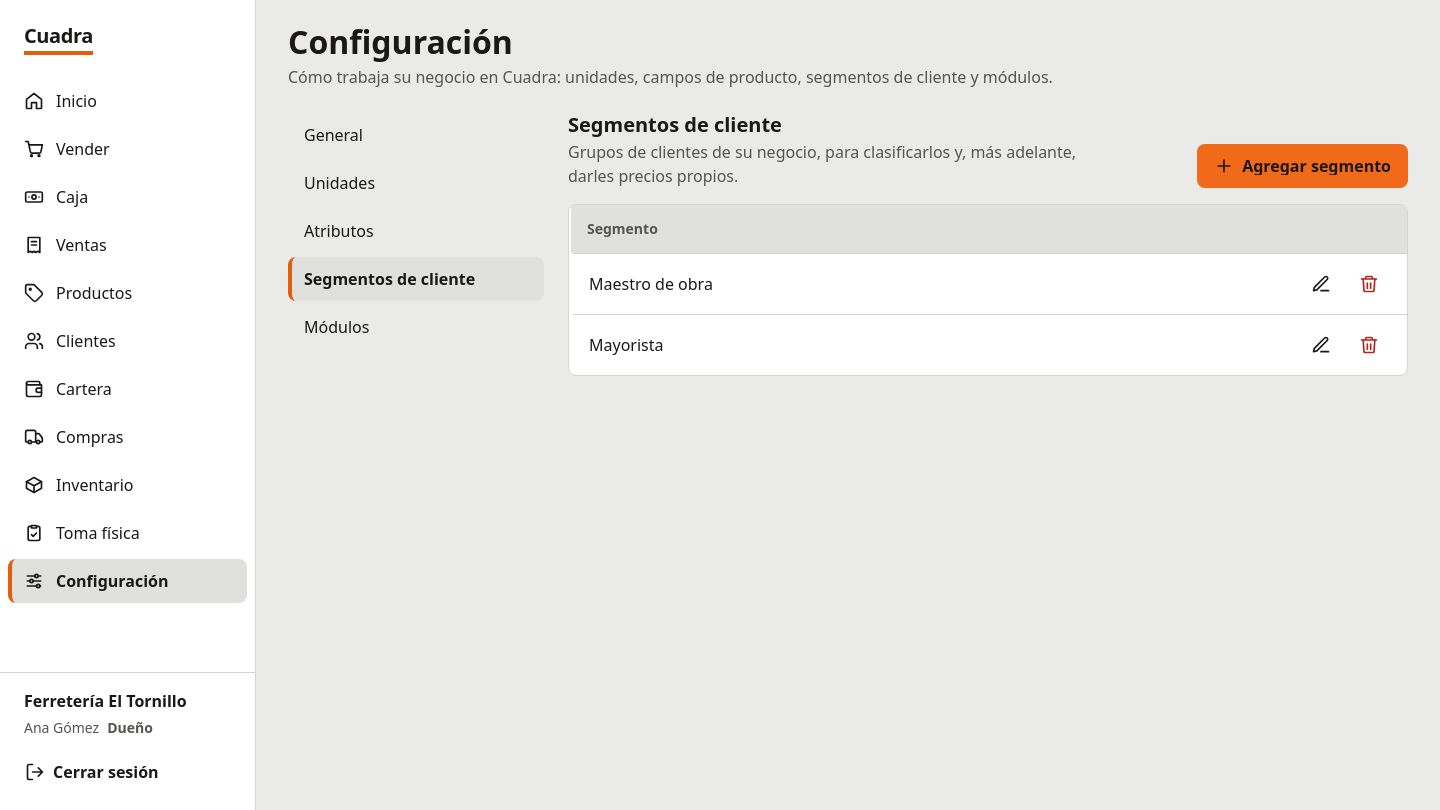
Scenario: CustomerSegmentsSettings › renombra un segmento y muestra el nombre repetido en su campo
The image size is (1440, 810).
Click the button named "Editar Mayorista". click: point(1321, 345)
box: [1299,323,1343,367]
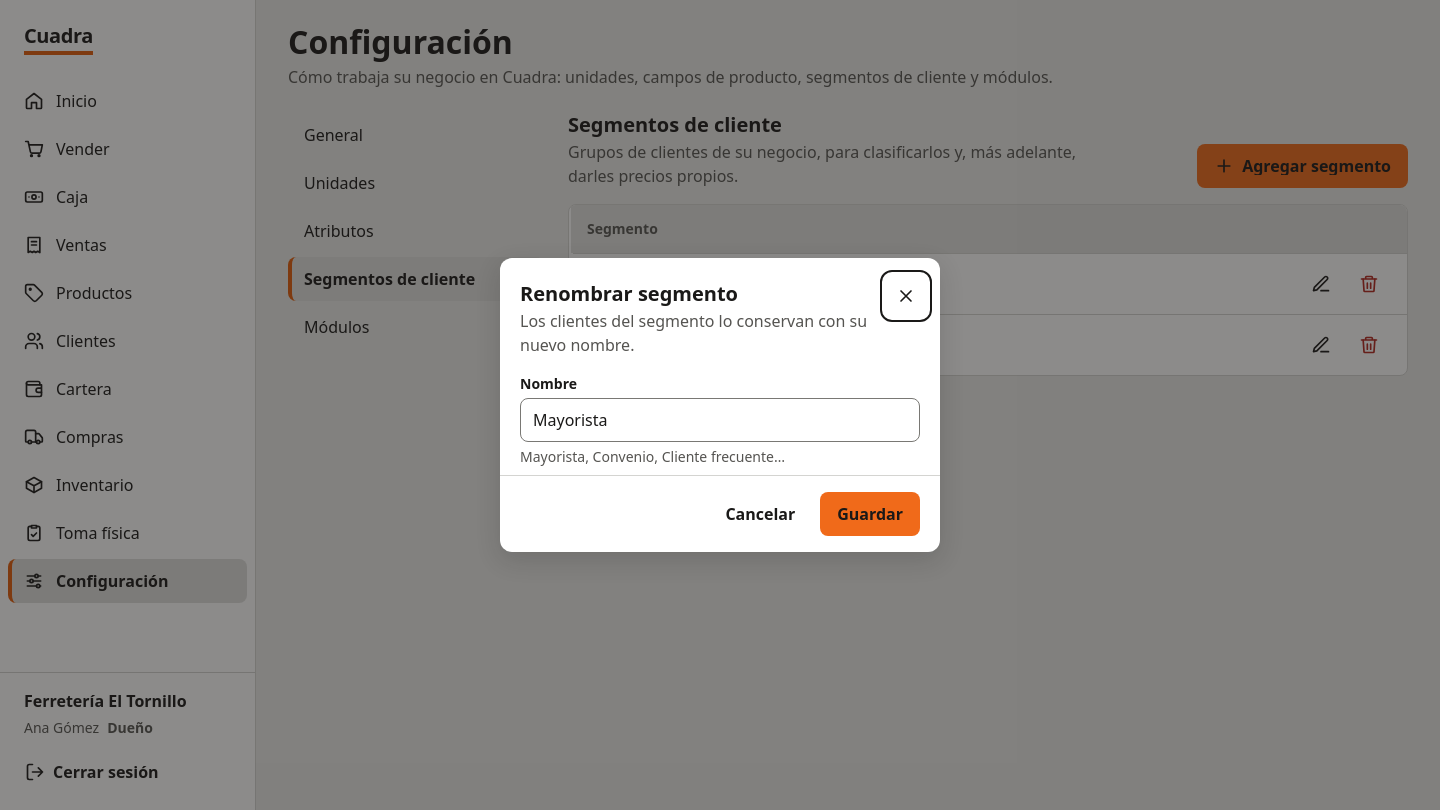
Replace the text in the field labelled "Nombre" with "maestro de obra". click: point(720, 420)
box: [520,398,920,442]
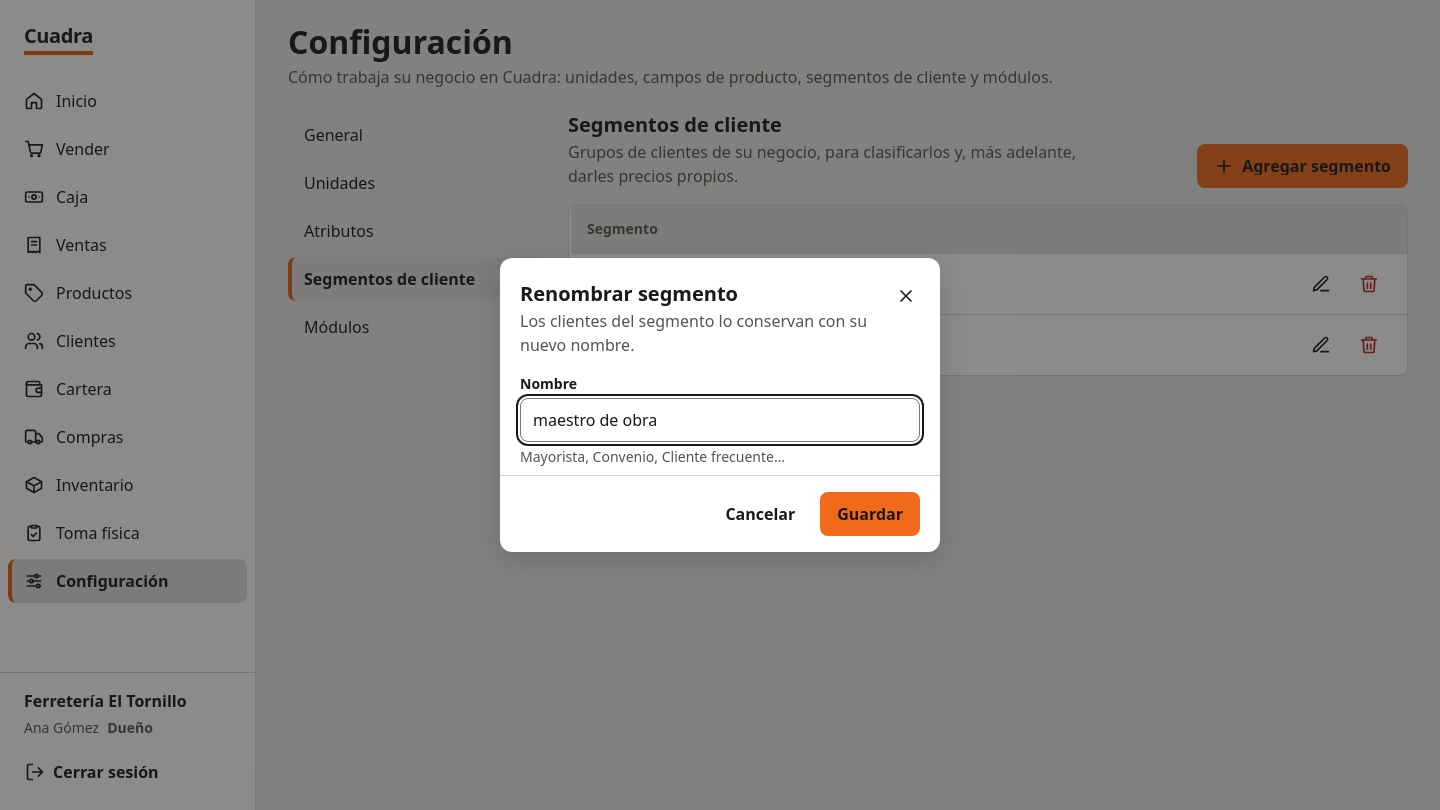
Click the button "Guardar". click: point(870, 514)
box: [820,492,920,536]
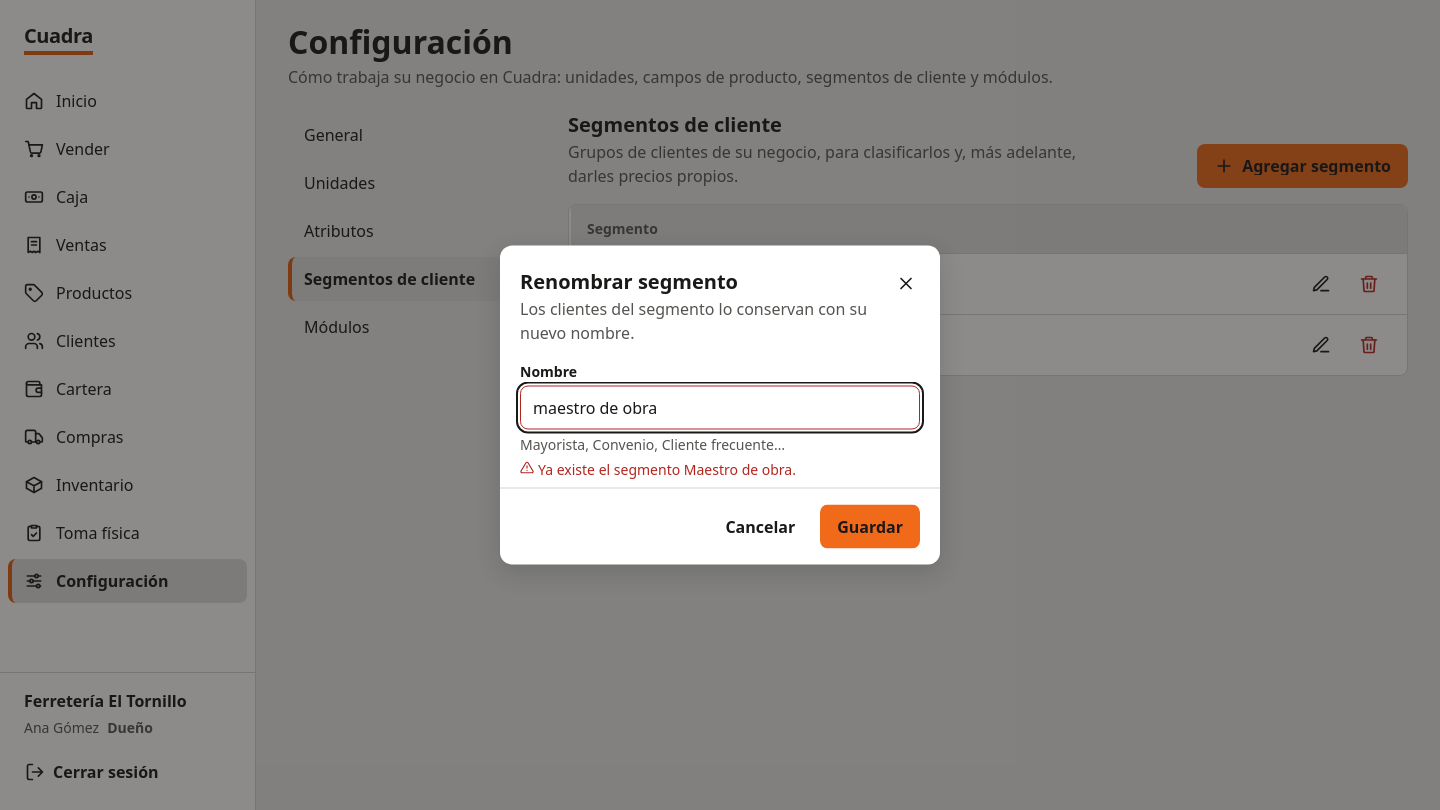
Now the text "Ya existe el segmento Maestro de obra." is shown, box [538,458,796,480]
